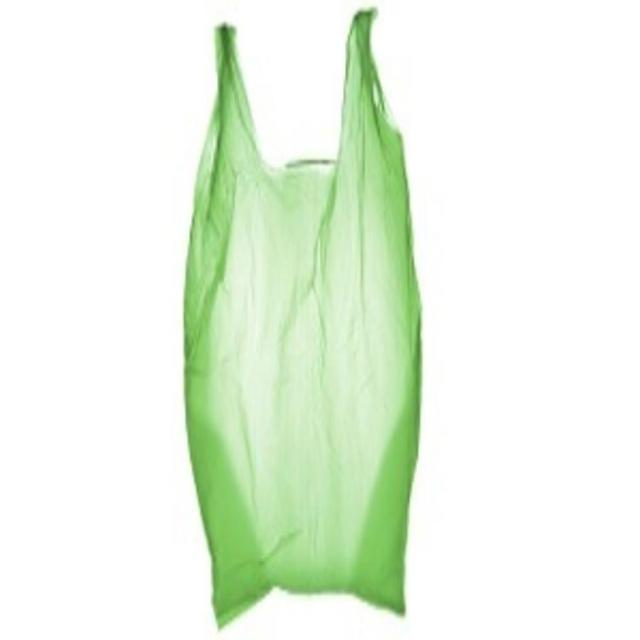plastic_bag: (176, 5, 443, 630)
